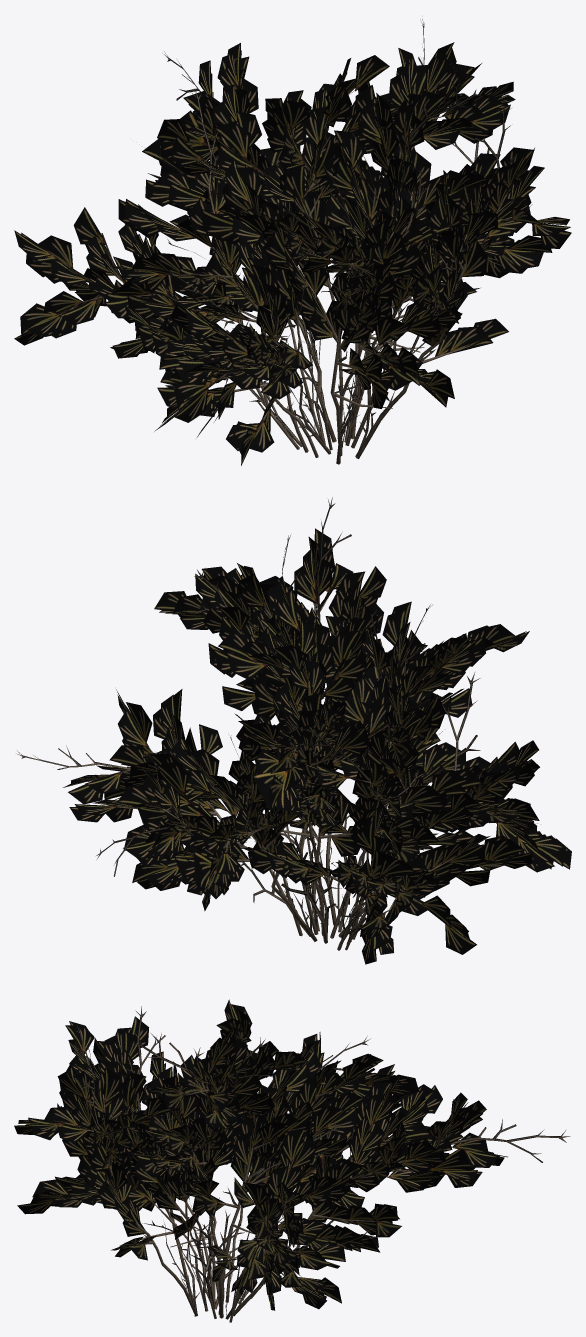
Rendered from ph-wild-rooibos-bush.glb.
The picture shows the model from 3 angles, top to bottom: view 1: azimuth 30°, elevation 25°; view 2: azimuth 150°, elevation 25°; view 3: azimuth 270°, elevation 25°; orthographic projection. The views are drawn at different scales.
Parts seen in each view (by area): view 1: wild_rooibos_bush_a; view 2: wild_rooibos_bush_a; view 3: wild_rooibos_bush_a.
Part boxes in pixels (x1,y1,x2,y2): wild_rooibos_bush_a: [14, 19, 571, 465]; wild_rooibos_bush_a: [17, 497, 571, 964]; wild_rooibos_bush_a: [14, 999, 570, 1322].
Bounding box in the file's own units: 0.6965 × 0.5393 × 0.8432.
2 materials, 2 textured.
